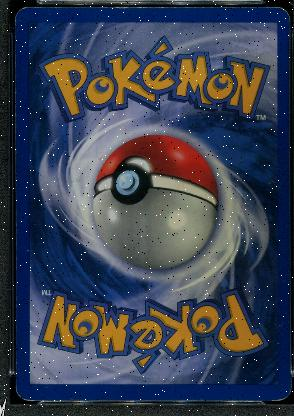Card: (13, 0, 291, 404)
Corner Wear: (15, 382, 39, 402), (269, 382, 291, 402), (11, 4, 27, 26)
Edge Wear: (26, 5, 278, 9), (14, 56, 16, 284), (14, 288, 17, 372)
Scratch: (275, 316, 285, 350), (73, 274, 88, 282), (46, 8, 52, 18), (68, 262, 79, 266), (33, 221, 39, 226), (24, 249, 29, 253)
